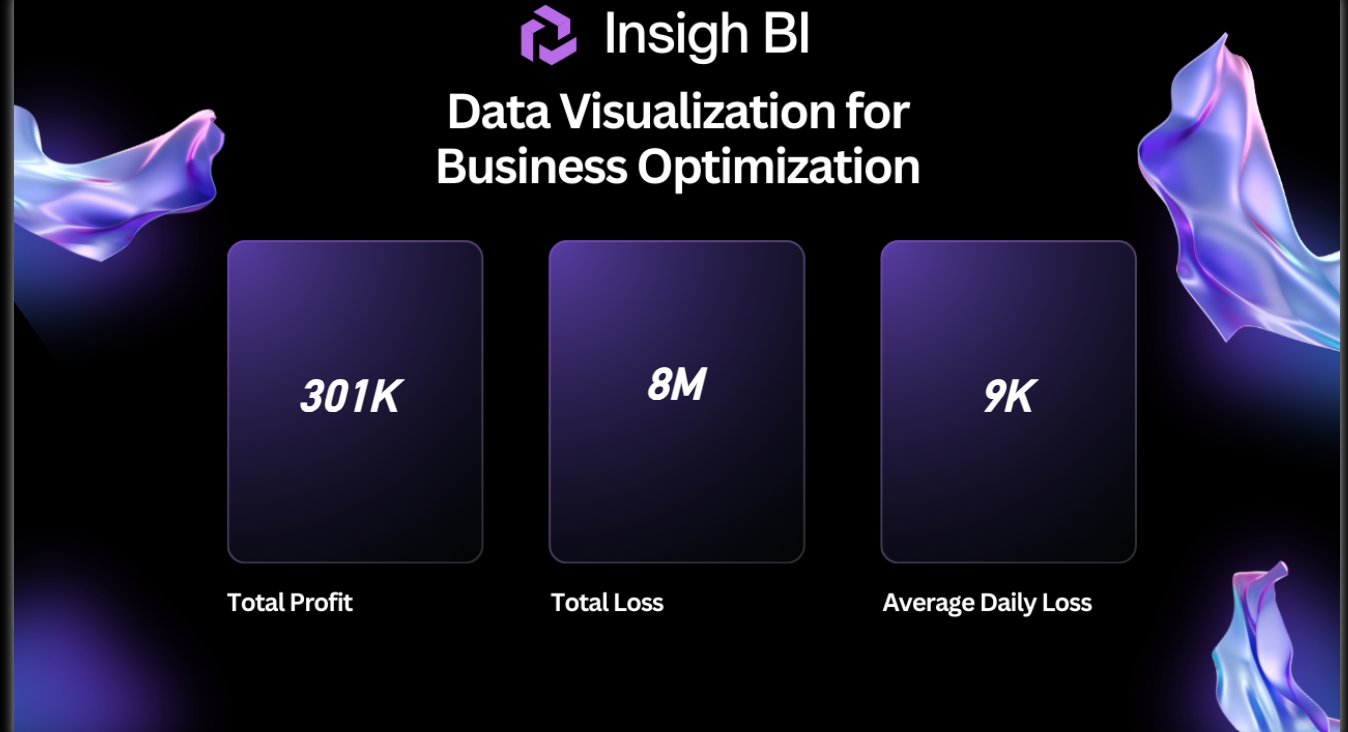

The dashboard page shown, as its layout file describes it:
{"tool":"powerbi","page":{"name":"profit_&_loss_dashboard","canvas":[1280,720],"ordinal":1},"visuals":[{"type":"advanceCardE03760C5AB684758B56AA29F9E6C257B","fields":{"mainMeasure":["Measure Table 2.Total Profit"]},"box":[217.5,245,217.5,285],"z":0},{"type":"advanceCardE03760C5AB684758B56AA29F9E6C257B","fields":{"mainMeasure":["Measure Table 2.Total Loss"]},"box":[527.5,245,225,262.5],"z":1000},{"type":"advanceCardE03760C5AB684758B56AA29F9E6C257B","fields":{"mainMeasure":["Measure Table 2.Average Loss Per Day"]},"box":[847.5,245,227.5,285],"z":2000}]}

Visuals, with their boxes on the page's 1280x720 design canvas (x1, y1, x2, y2). These are canvas units, not pixel positions in the 1348x732 screenshot, which may show the page scaled, cropped or inside an application window:
advanceCardE03760C5AB684758B56AA29F9E6C257B - Measure Table 2.Total Profit: bbox=[218, 245, 435, 530]
advanceCardE03760C5AB684758B56AA29F9E6C257B - Measure Table 2.Total Loss: bbox=[528, 245, 752, 508]
advanceCardE03760C5AB684758B56AA29F9E6C257B - Measure Table 2.Average Loss Per Day: bbox=[848, 245, 1075, 530]
